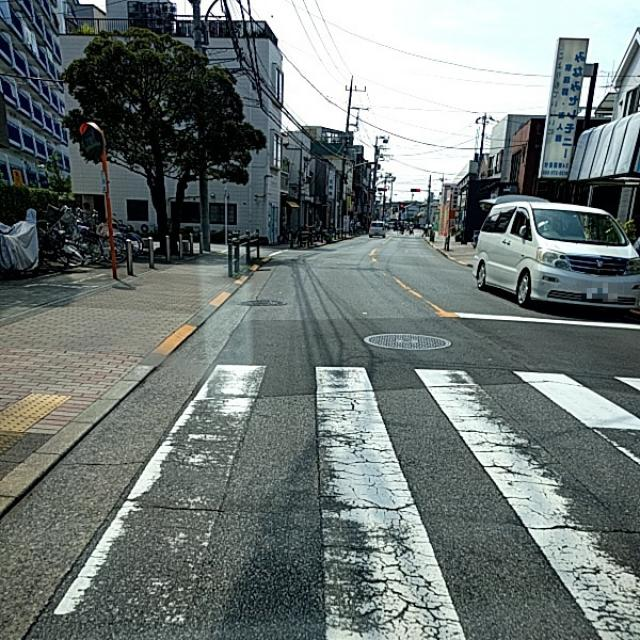pothole: (306, 481, 432, 627)
